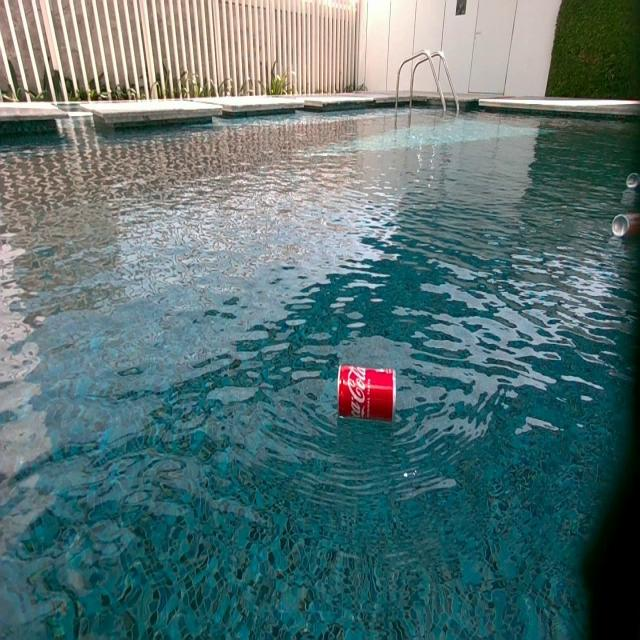Cans: (337, 364, 394, 424), (614, 213, 640, 240), (626, 173, 640, 191)
